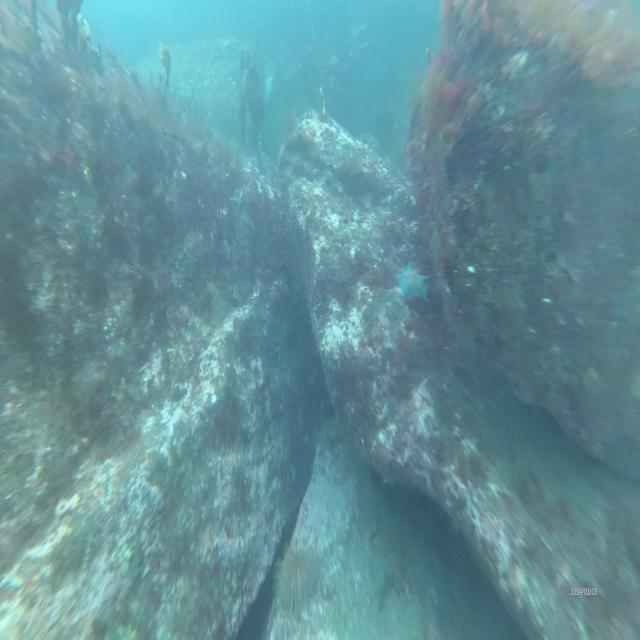echinus: (275, 534, 319, 625)
starfish: (392, 254, 433, 306)
